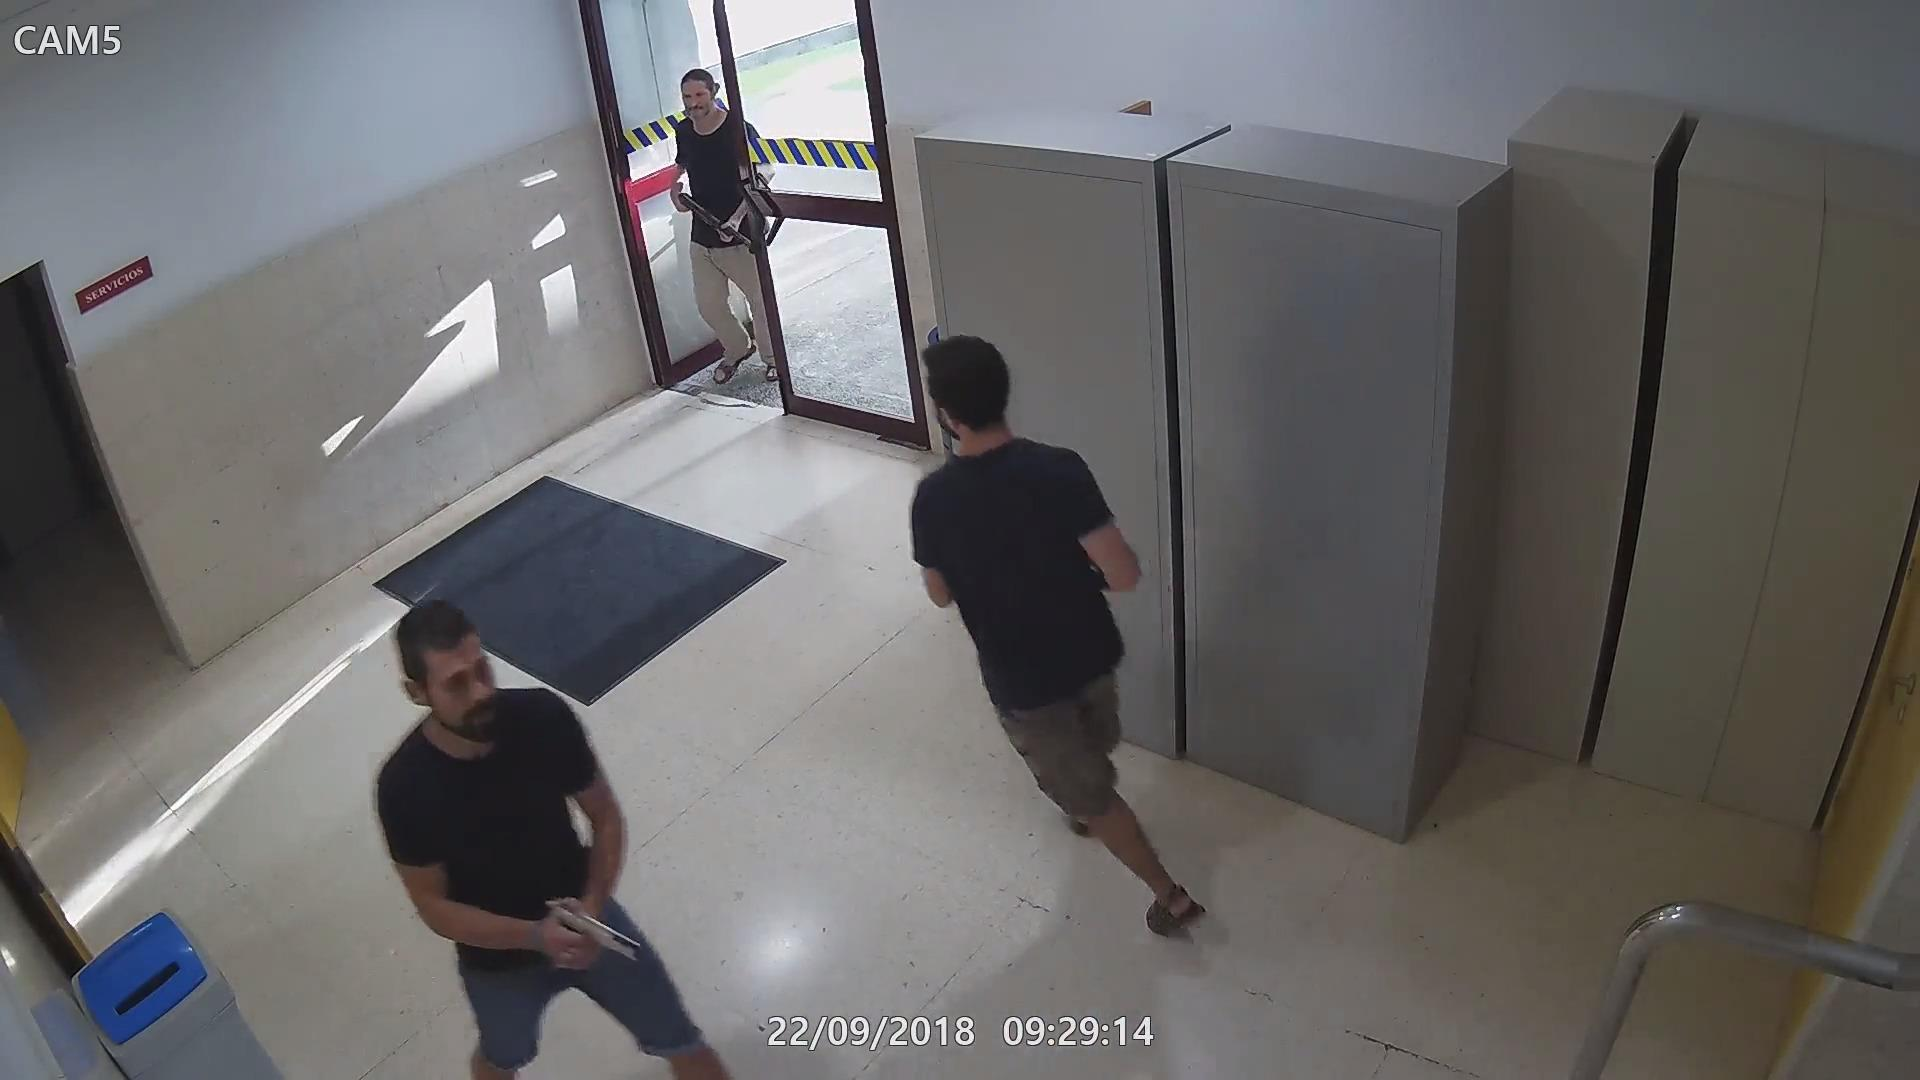Handgun: (539, 890, 640, 980)
